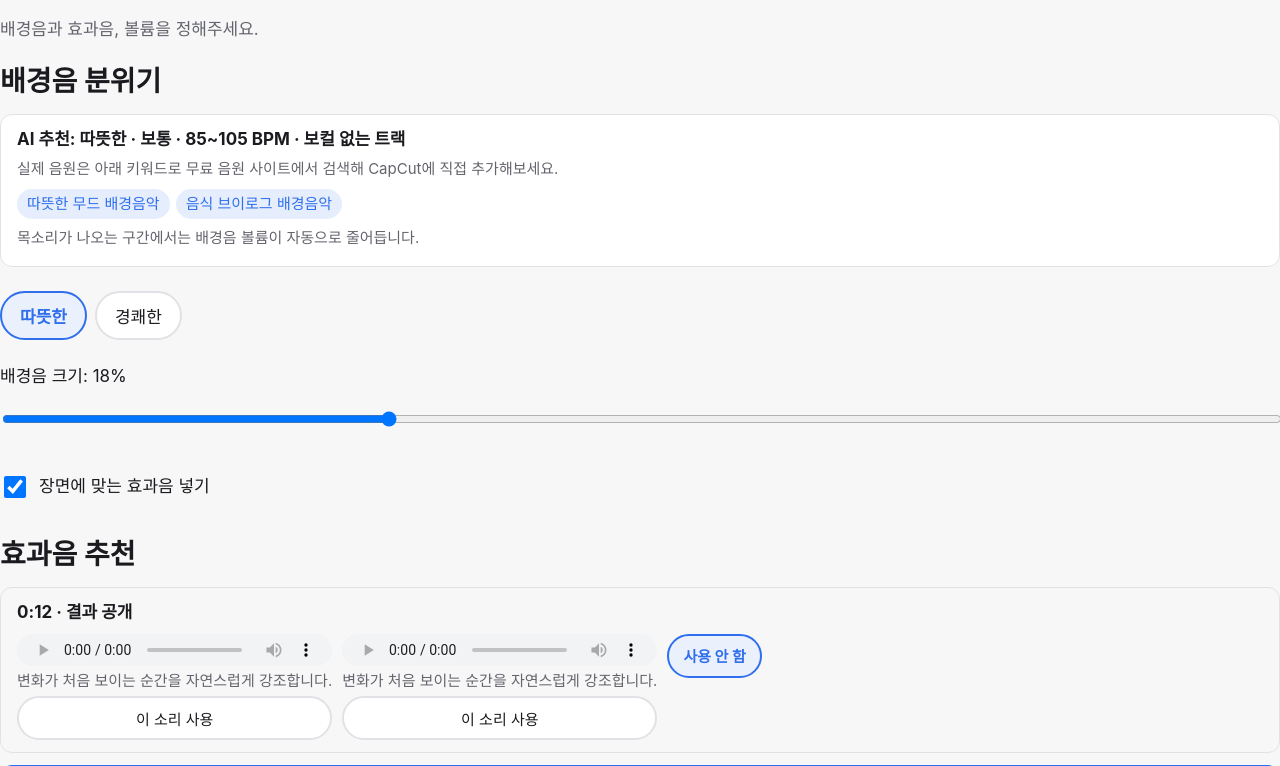
Scenario: Step7Audio - SFX/BGM 추천 › 효과음 넣기 체크를 끄면 추천 목록이 숨겨진다
Expected: the text "0:12 · 결과 공개" is shown, [17,602,132,622]
Click the checkbox labelled "장면에 맞는 효과음 넣기": (15, 487) [4,476,26,498]
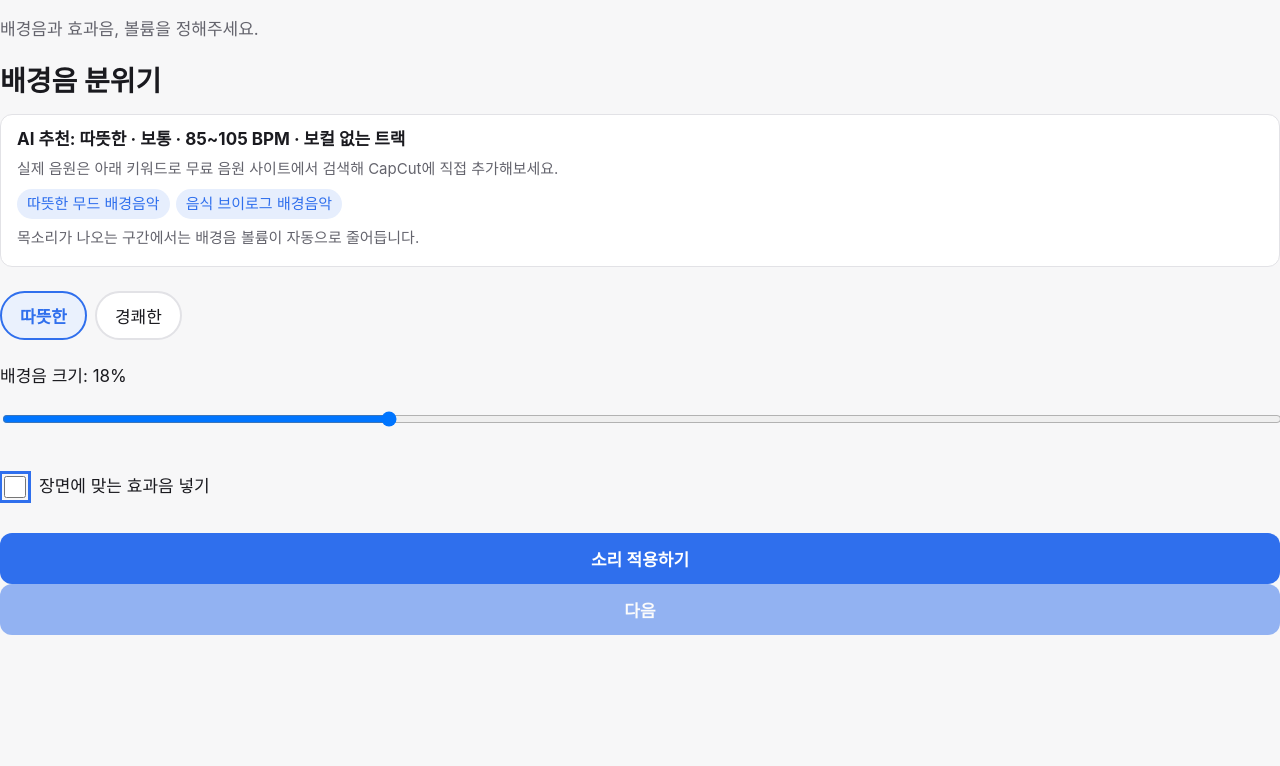
Now the text "결과 공개" is gone
